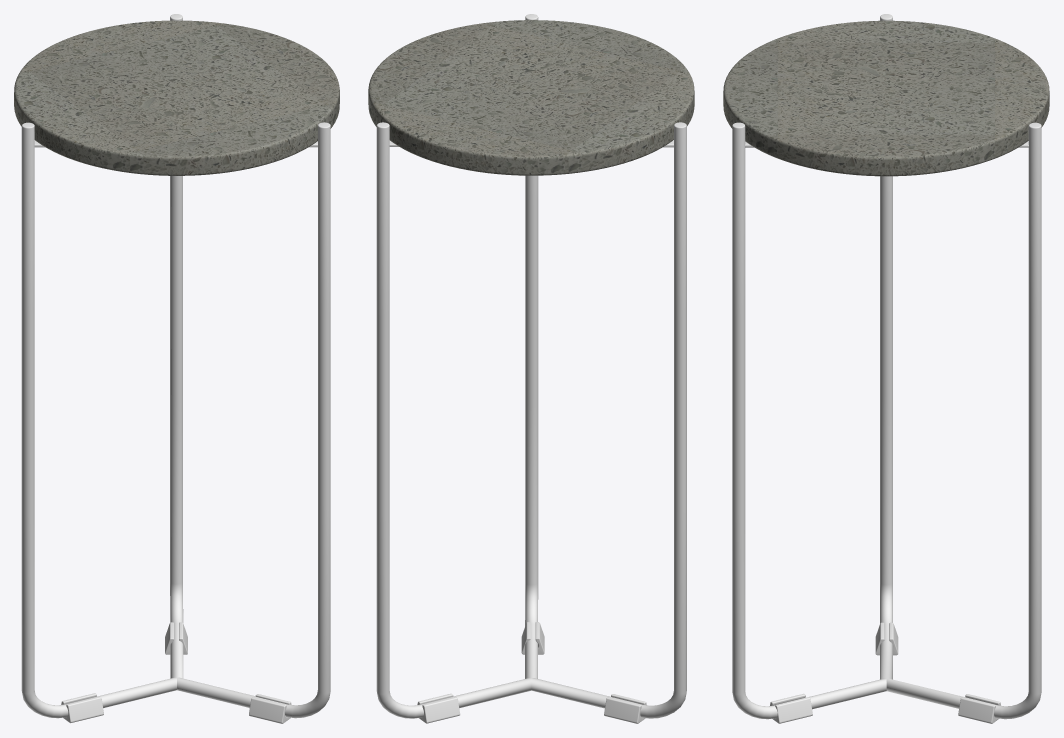
Rendered from mesita.glb.
3 renders of one model, left to right at view 1: azimuth 30°, elevation 25°; view 2: azimuth 150°, elevation 25°; view 3: azimuth 270°, elevation 25°, orthographic.
Visible parts, largest first — view 1: Terrazo_-_mesita, Hierro_-_mesita; view 2: Terrazo_-_mesita, Hierro_-_mesita; view 3: Terrazo_-_mesita, Hierro_-_mesita.
Boxes of the visible parts, bbox=[...] form: Terrazo_-_mesita: bbox=[14, 20, 339, 175]; Hierro_-_mesita: bbox=[21, 14, 330, 723]; Terrazo_-_mesita: bbox=[368, 20, 694, 175]; Hierro_-_mesita: bbox=[376, 14, 686, 723]; Terrazo_-_mesita: bbox=[723, 20, 1049, 176]; Hierro_-_mesita: bbox=[732, 14, 1041, 723].
Size of the model in its own units: 0.3172 by 0.6201 by 0.303.
Materials: 2 (1 with a texture image).
